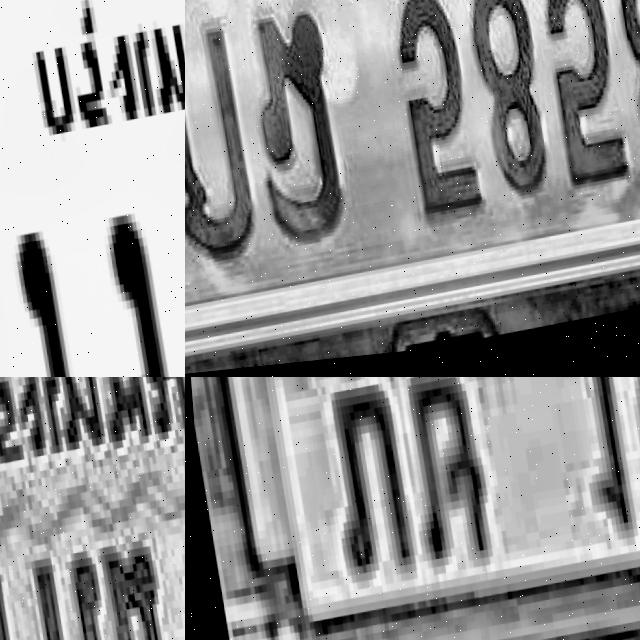license-plate: (185, 0, 640, 375), (206, 377, 640, 640), (0, 0, 185, 377), (0, 377, 185, 640)
